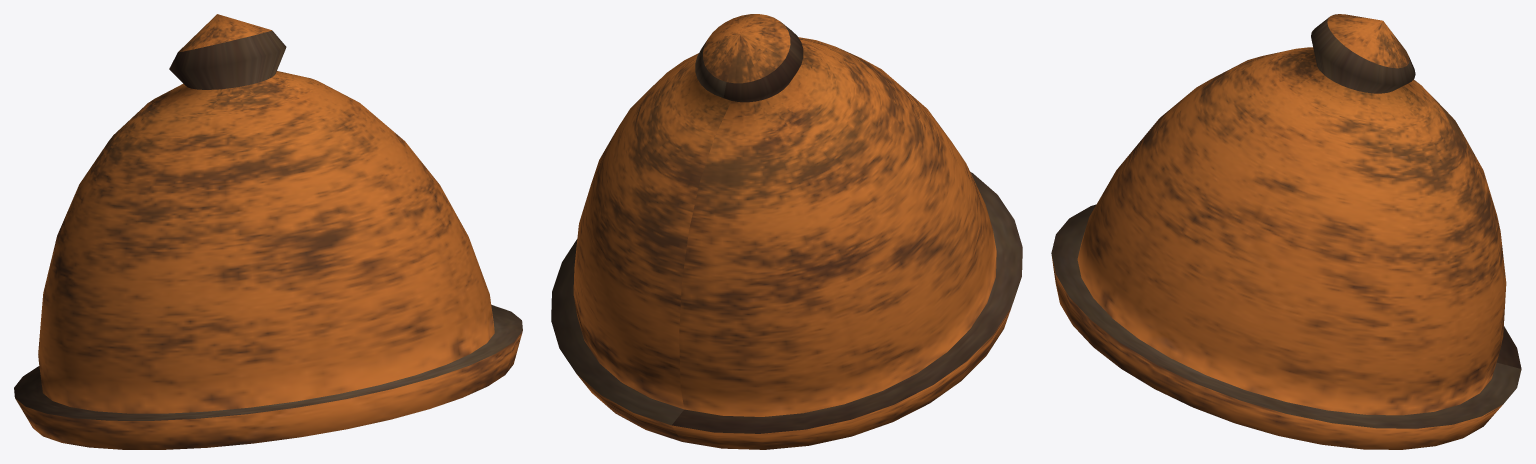
Rendered from lusi_helmet_couro_c.dae.
3 renders of one model, left to right at view 1: azimuth 30°, elevation 25°; view 2: azimuth 150°, elevation 25°; view 3: azimuth 270°, elevation 25°, orthographic. The views are drawn at different scales.
Visible parts, largest first — view 1: a_gorro_c; view 2: a_gorro_c; view 3: a_gorro_c.
Part boxes in pixels (x1,y1,x2,y2): a_gorro_c: (14,14,522,449); a_gorro_c: (551,14,1022,449); a_gorro_c: (1051,14,1521,449).
Size of the model in its own units: 0.5957 by 0.5763 by 0.5042.
